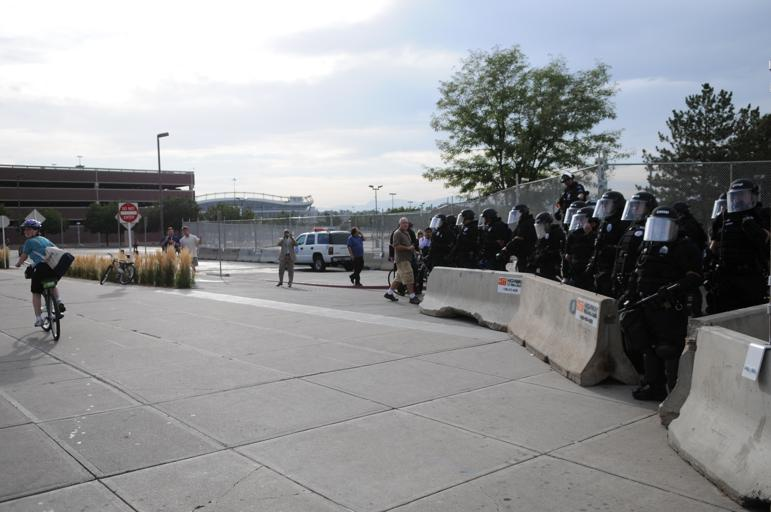non-vehicle: (22, 261, 64, 340), (386, 262, 429, 295), (100, 252, 135, 284)
